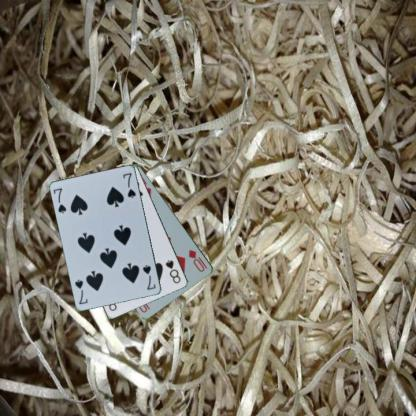10d: (186, 248, 209, 274)
7s: (140, 262, 158, 292), (50, 185, 68, 215)
8s: (163, 257, 182, 285)
